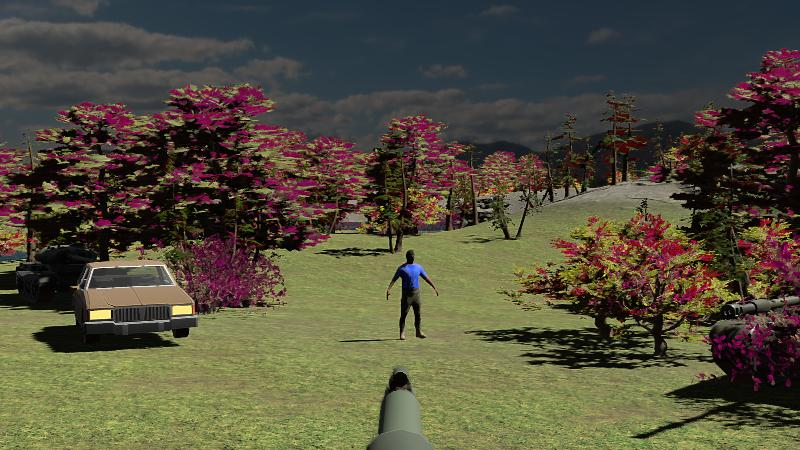Human: (386, 249, 438, 340)
Tank: (710, 287, 800, 388), (14, 242, 109, 309)
car: (72, 260, 198, 345)
